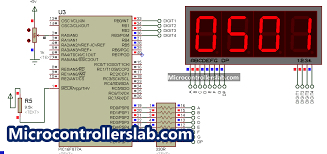0: (194, 14, 218, 52), (258, 15, 281, 52)
1: (306, 15, 312, 51)
5: (228, 15, 249, 52)
panel: (188, 9, 318, 57)
